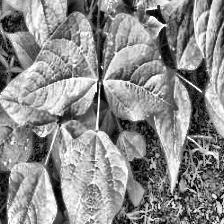Bean Rust: (22, 11, 98, 119), (0, 94, 38, 166), (202, 58, 224, 139)
